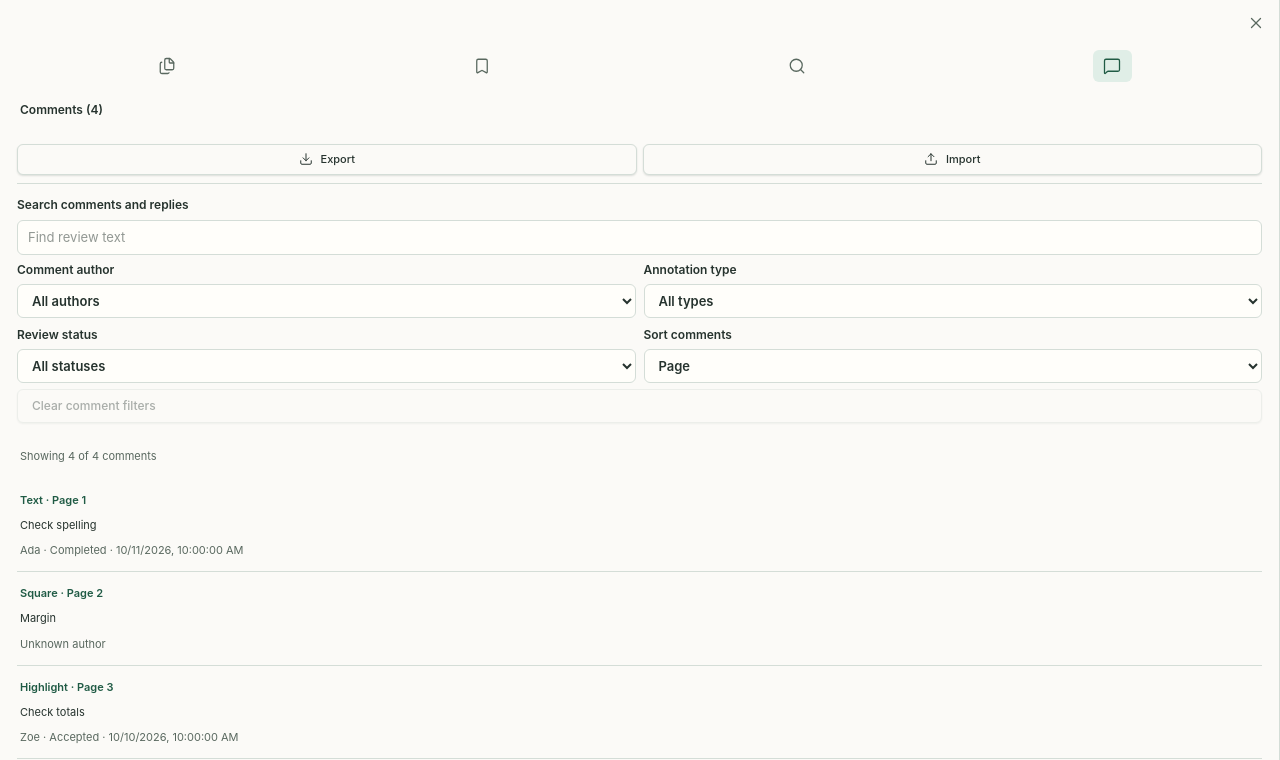
sidebar comment review › offers unknown authors and comments with no review status
Select "Unknown author" in the dropdown labelled "Comment author": (326, 301) 17,284 -> 636,318
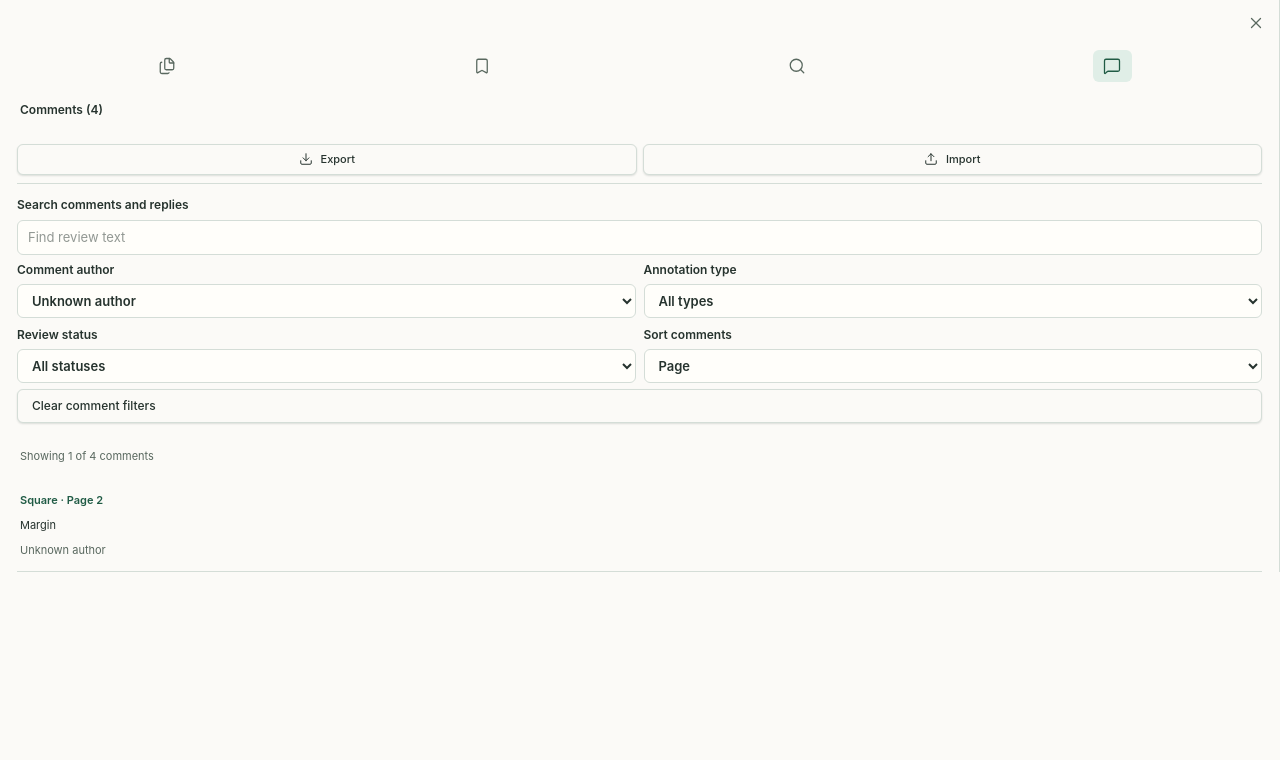
Expected: the text "Margin" is shown, 20,516 -> 56,534
Expected: the text "Showing 1 of 4 comments" is shown, 20,449 -> 154,463
Click the button "Clear comment filters": click(94, 406) 17,389 -> 1262,423
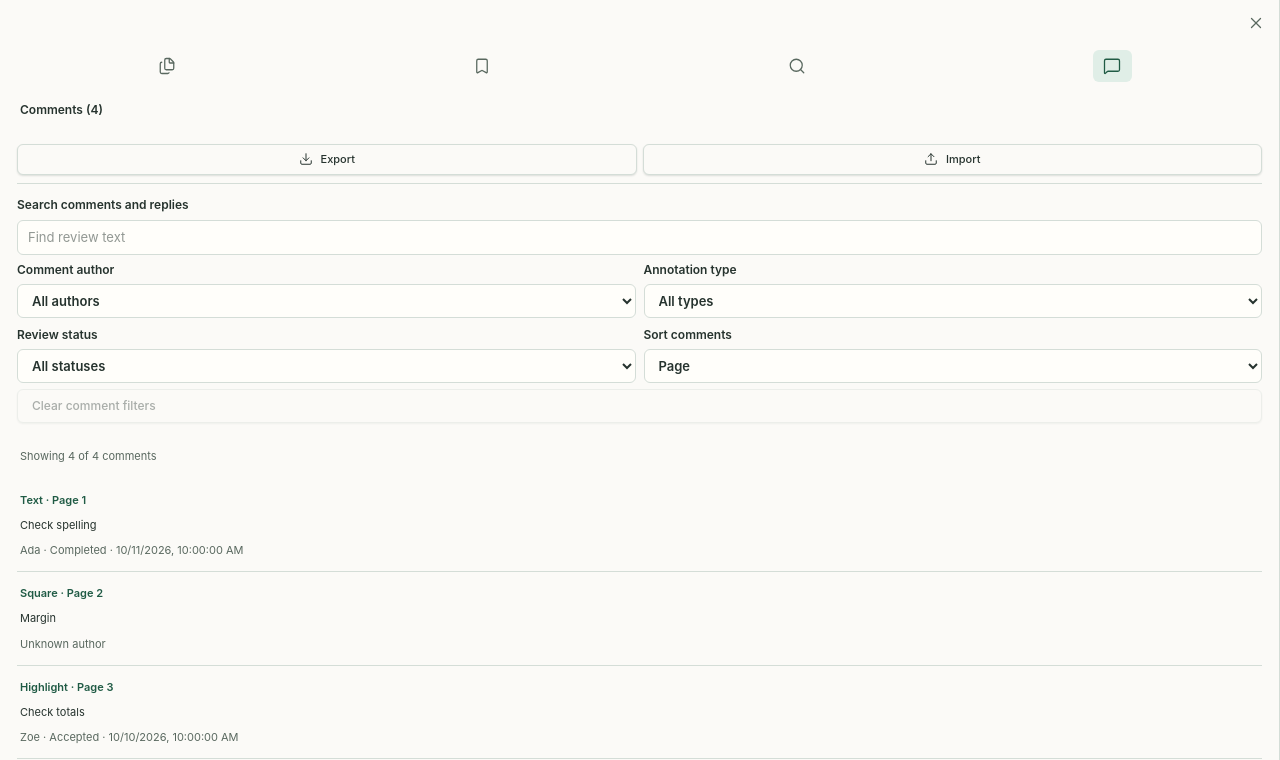
Select "No status" in the dropdown labelled "Review status": (326, 366) 17,349 -> 636,383
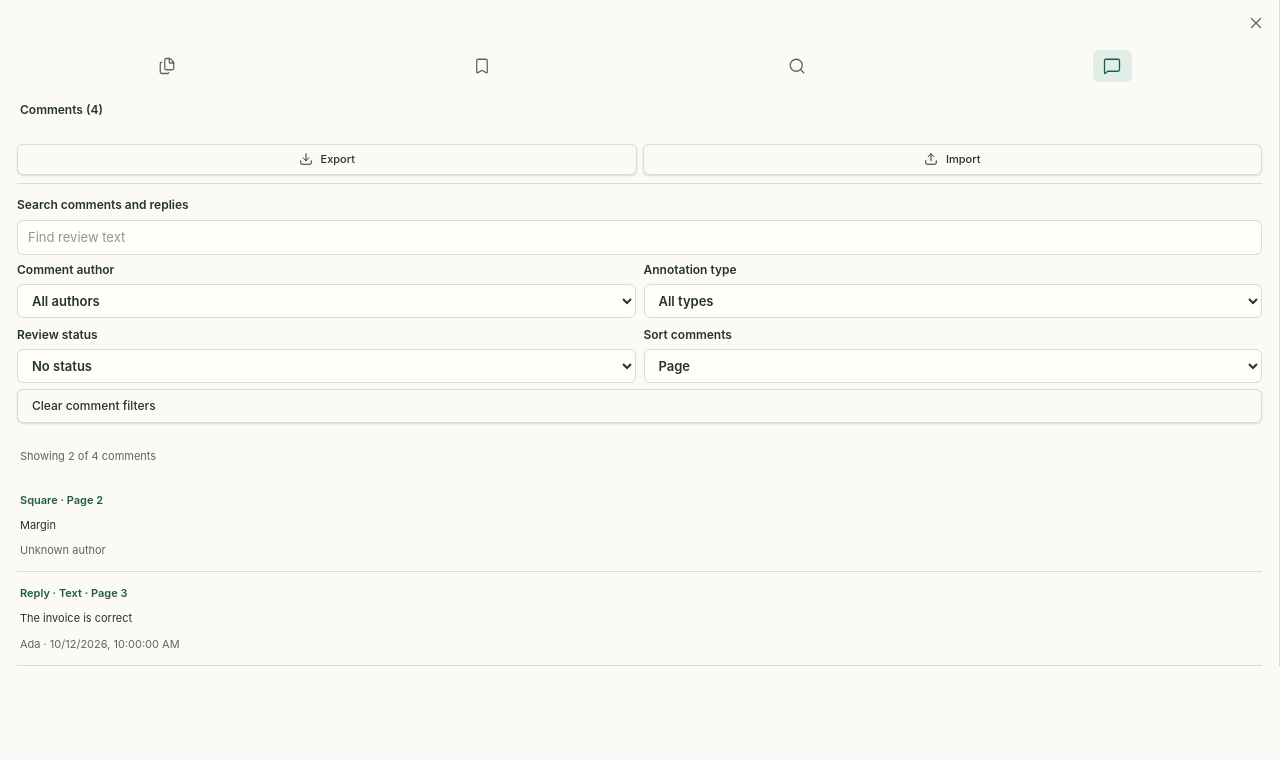
Expected: the text "Showing 2 of 4 comments" is shown, 20,449 -> 156,463
